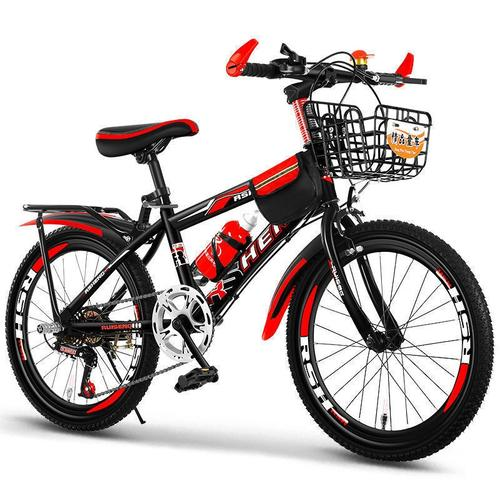单车: (1, 34, 499, 473)
